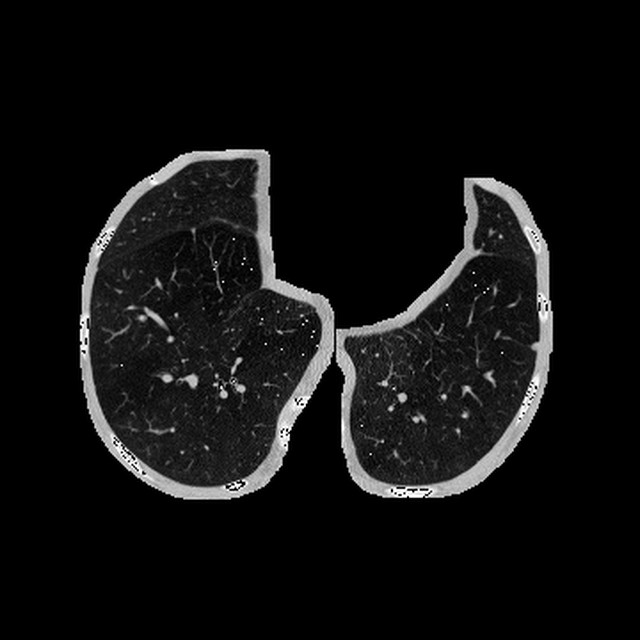PN: (530, 343, 537, 350)
